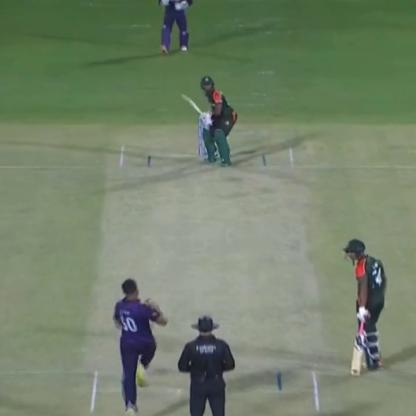bat: (174, 88, 215, 130)
pitch: (62, 132, 348, 416)
